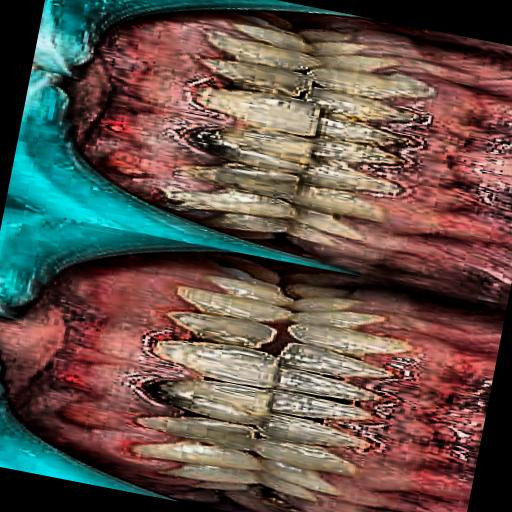Calculus: (111, 6, 440, 268)
